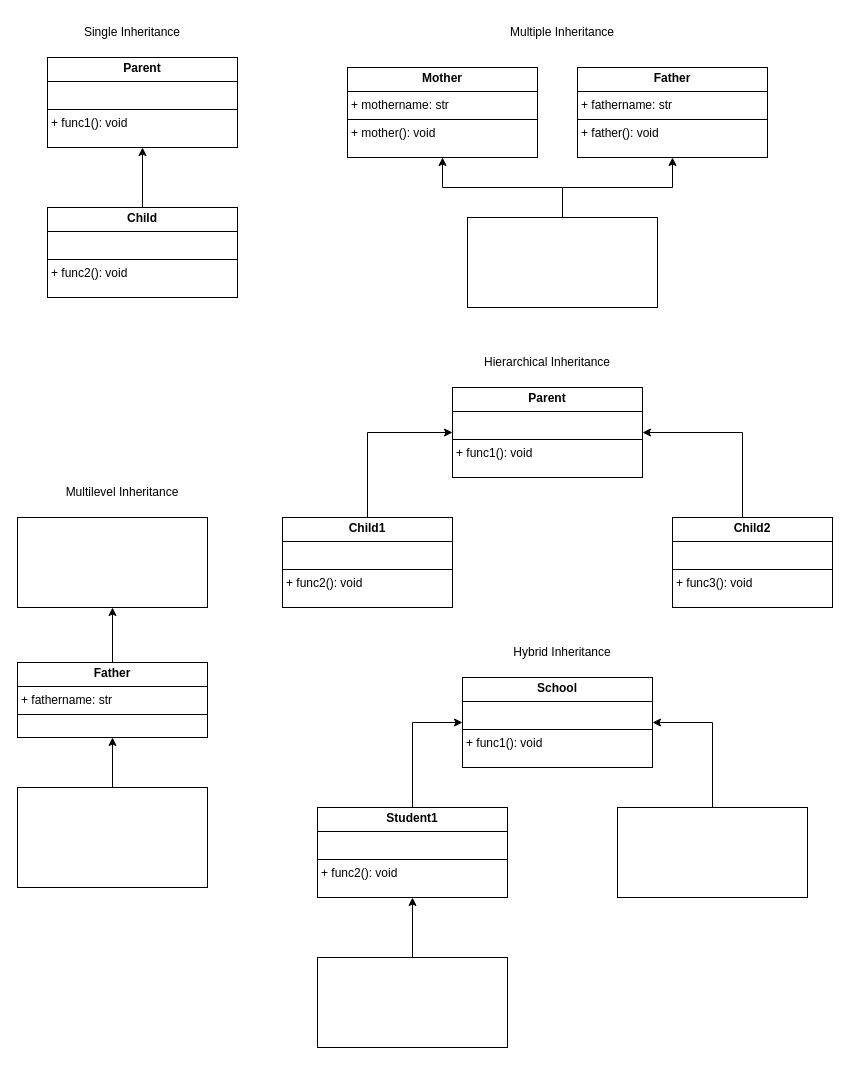
Some shapes in this 850 by 1065 pixel diagram are drawn without their labels. Each missing label, with the centre of its shape:
Grandfather + grandfathername: str: (112,562)
Son + parents(): void: (562,262)
Son + sonname: str + print_name(): void: (112,837)
Student2 + func3(): void: (712,852)
Student3 + func4(): void: (412,1002)
